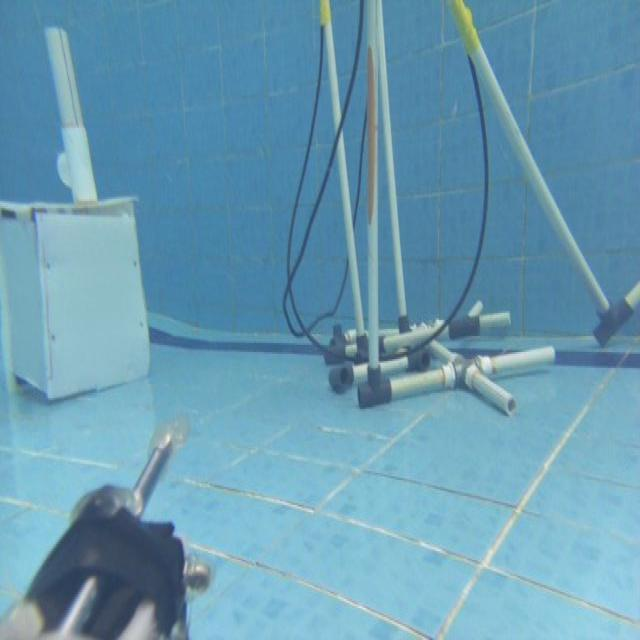Cube: (0, 192, 152, 402)
